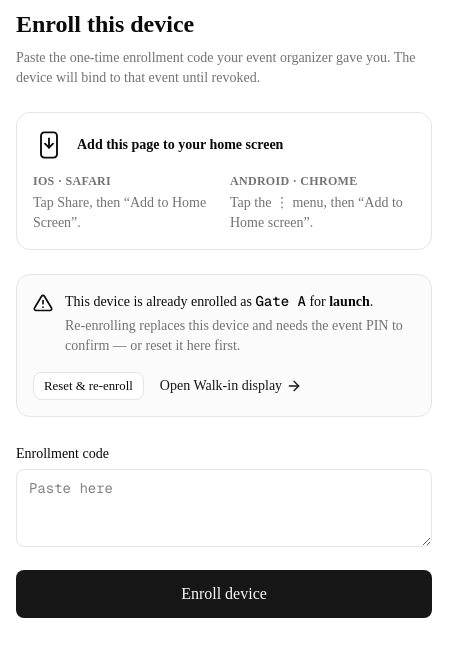
Test: ScannerEnrollPage already-enrolled actions › does NOT reset when the PIN is wrong
Click the button "Reset & re-enroll". click: coordinates (88, 386)
box: [33,372,144,400]
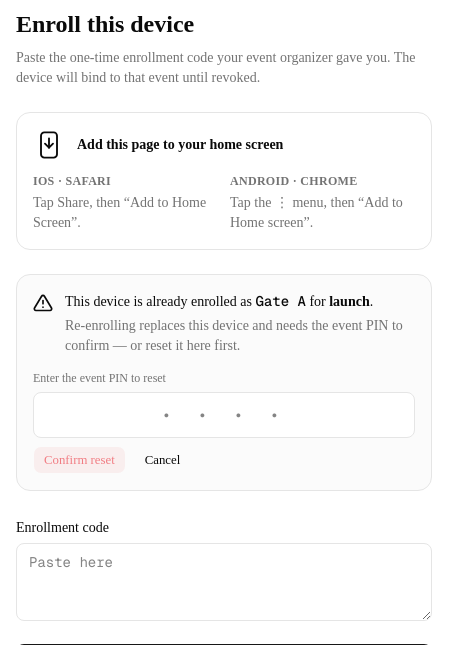
Type "0000" into the field with placeholder "• • • •". click: coordinates (224, 415)
box: [33,392,415,438]
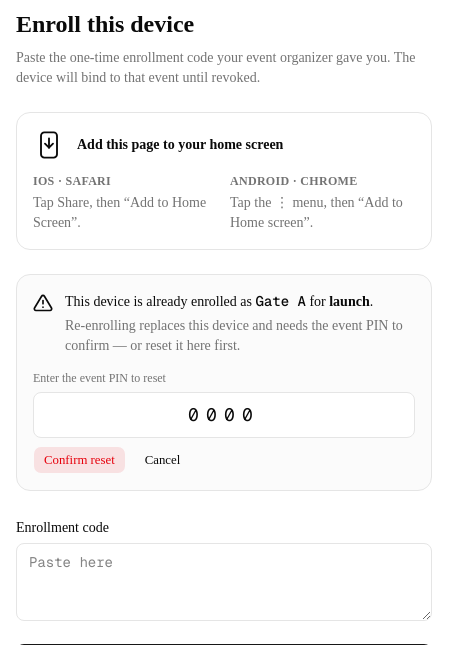
Click the button "Confirm reset". click: coordinates (79, 460)
box: [33,446,126,474]
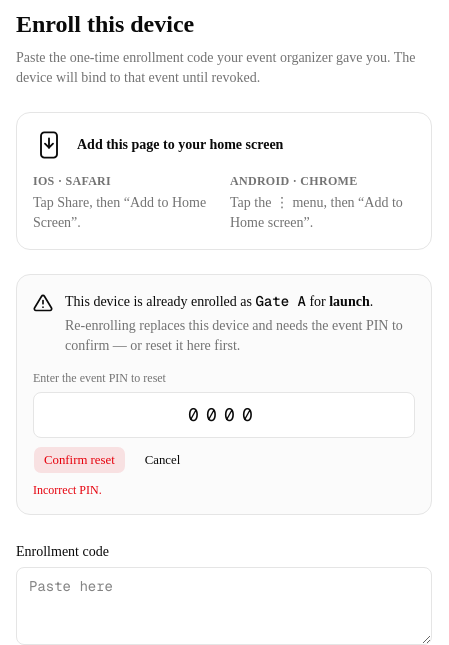
Now the text "Incorrect PIN." is shown, box [33,483,102,497]
